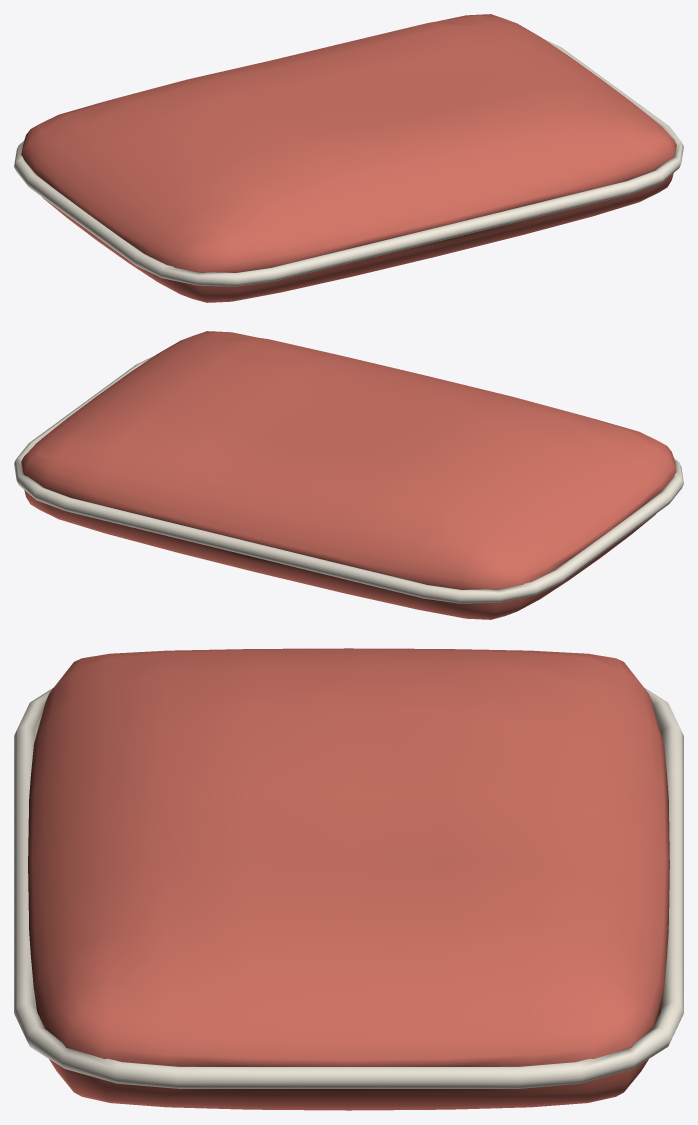
File: junk_pillow.glb
3 views of the same model, one above another, from view 1: azimuth 30°, elevation 25°; view 2: azimuth 150°, elevation 25°; view 3: azimuth 270°, elevation 25° (orthographic). The views are drawn at different scales.
Parts seen in each view (by area): view 1: PART; view 2: PART; view 3: PART.
Boxes of the visible parts, x1,y1,x2,y2 form: PART: [14, 14, 683, 302]; PART: [14, 331, 683, 619]; PART: [14, 648, 683, 1110].
Size of the model in its own units: 0.6257 by 0.1371 by 0.4257.
